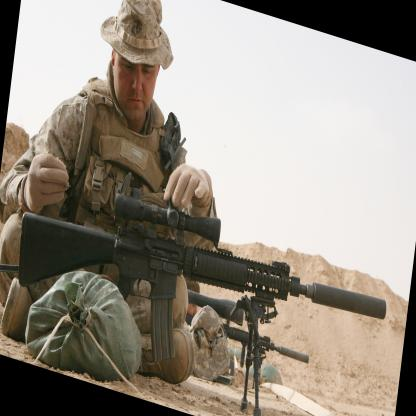rifle: (41, 101, 416, 358)
